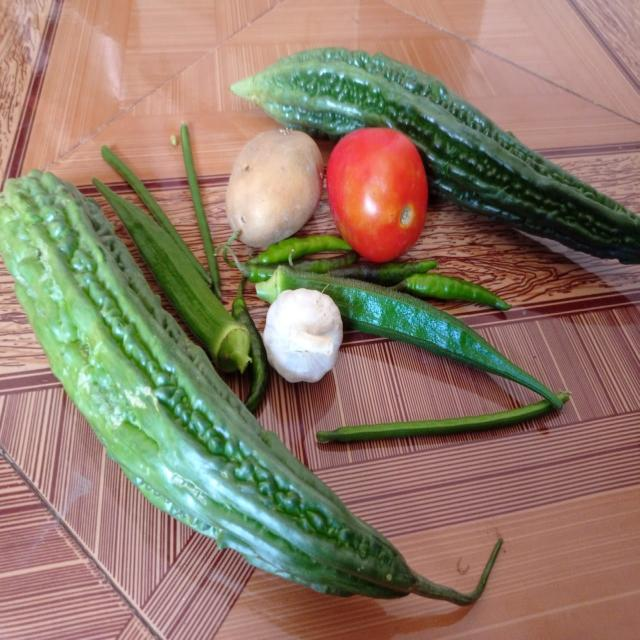Organik: (142, 378, 403, 605), (10, 186, 145, 471), (354, 284, 558, 399), (280, 52, 494, 132), (329, 129, 435, 265), (222, 129, 318, 248), (265, 288, 340, 384)
